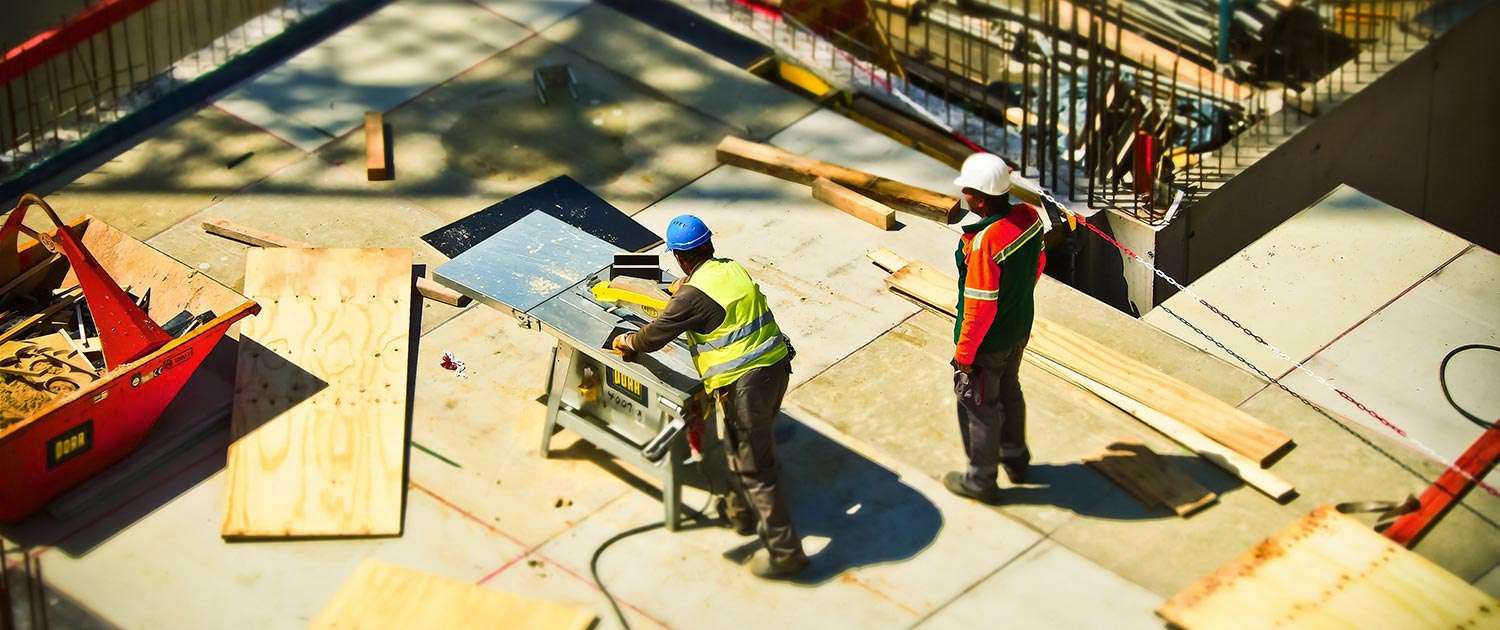With Helmet: (948, 150, 1022, 220), (666, 214, 722, 269)
